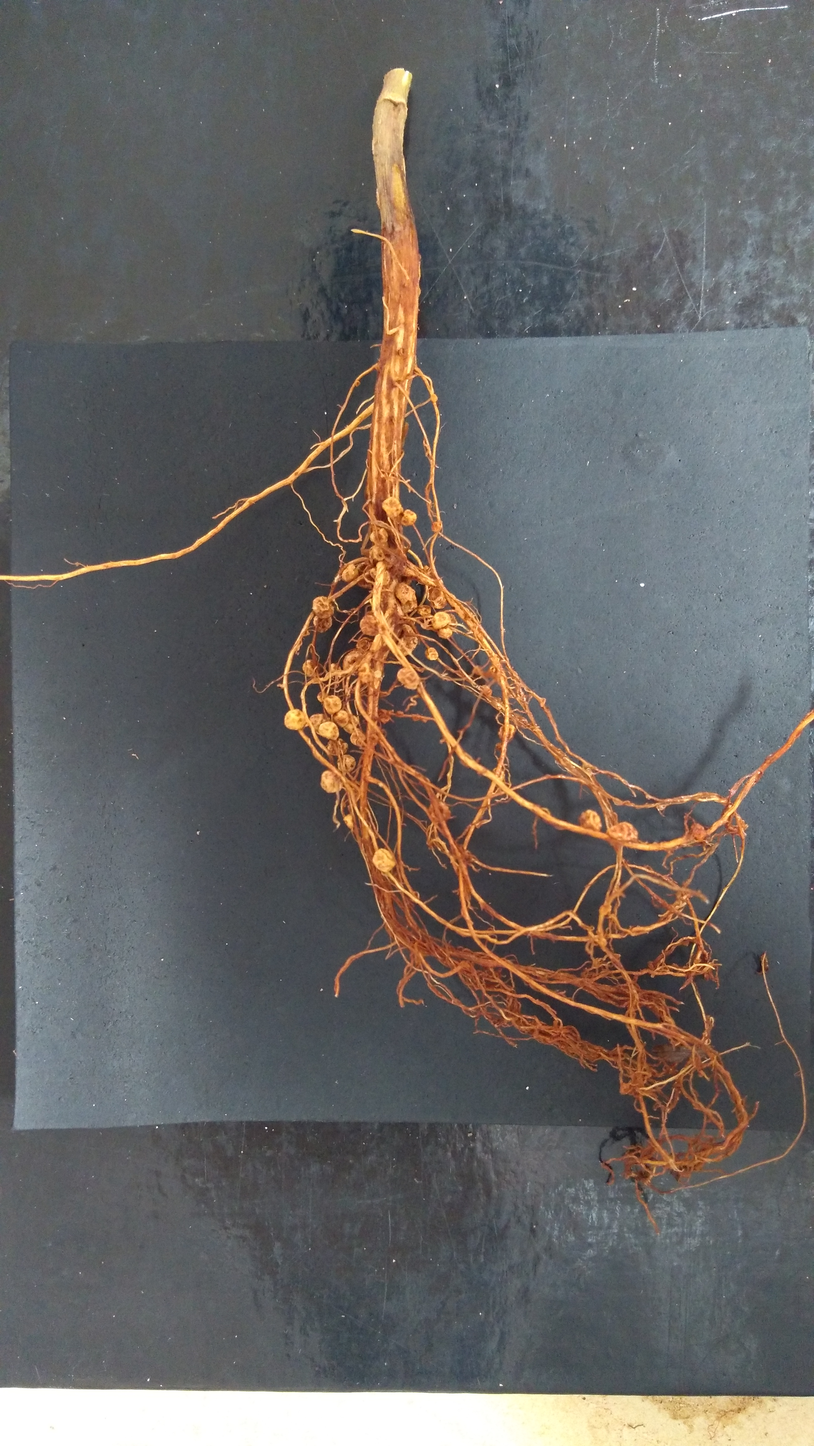nodule: (395, 623, 419, 661), (394, 581, 418, 615), (606, 819, 640, 842), (371, 847, 398, 874), (426, 799, 453, 826), (577, 808, 604, 833), (358, 612, 382, 640), (341, 648, 363, 677), (395, 666, 420, 691), (319, 769, 343, 795), (282, 708, 306, 733), (310, 595, 336, 618), (380, 494, 403, 520), (309, 613, 335, 634), (309, 711, 330, 737), (426, 587, 448, 611), (316, 720, 339, 742), (325, 737, 350, 757), (335, 752, 357, 774), (322, 694, 343, 716), (369, 566, 391, 586), (338, 563, 359, 583), (365, 544, 387, 563), (357, 662, 375, 685), (400, 506, 418, 529), (365, 527, 390, 543), (430, 610, 451, 629), (688, 822, 706, 842), (348, 729, 367, 747), (497, 722, 516, 740), (333, 709, 349, 729), (343, 714, 359, 734), (301, 658, 315, 679), (422, 646, 440, 662), (355, 637, 373, 651), (491, 767, 506, 783), (436, 626, 454, 639), (448, 612, 459, 631), (330, 662, 342, 679), (417, 604, 432, 617), (343, 814, 354, 831), (598, 903, 612, 916), (430, 521, 443, 534), (315, 690, 327, 704), (367, 733, 379, 747), (482, 684, 493, 698), (429, 394, 439, 402), (354, 380, 360, 388)
